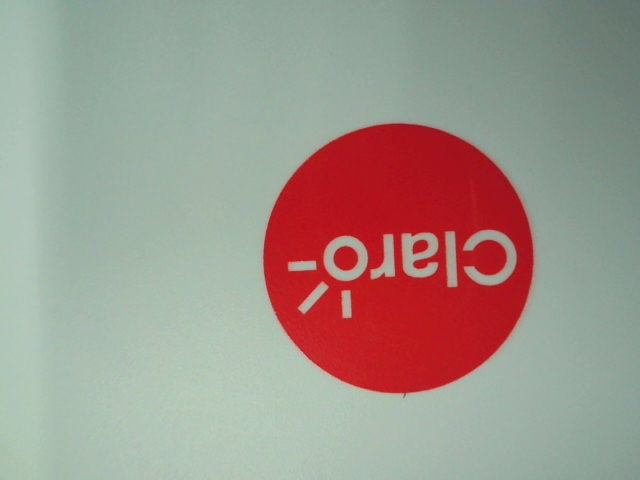BC_ClaorRed: (251, 118, 558, 399)
